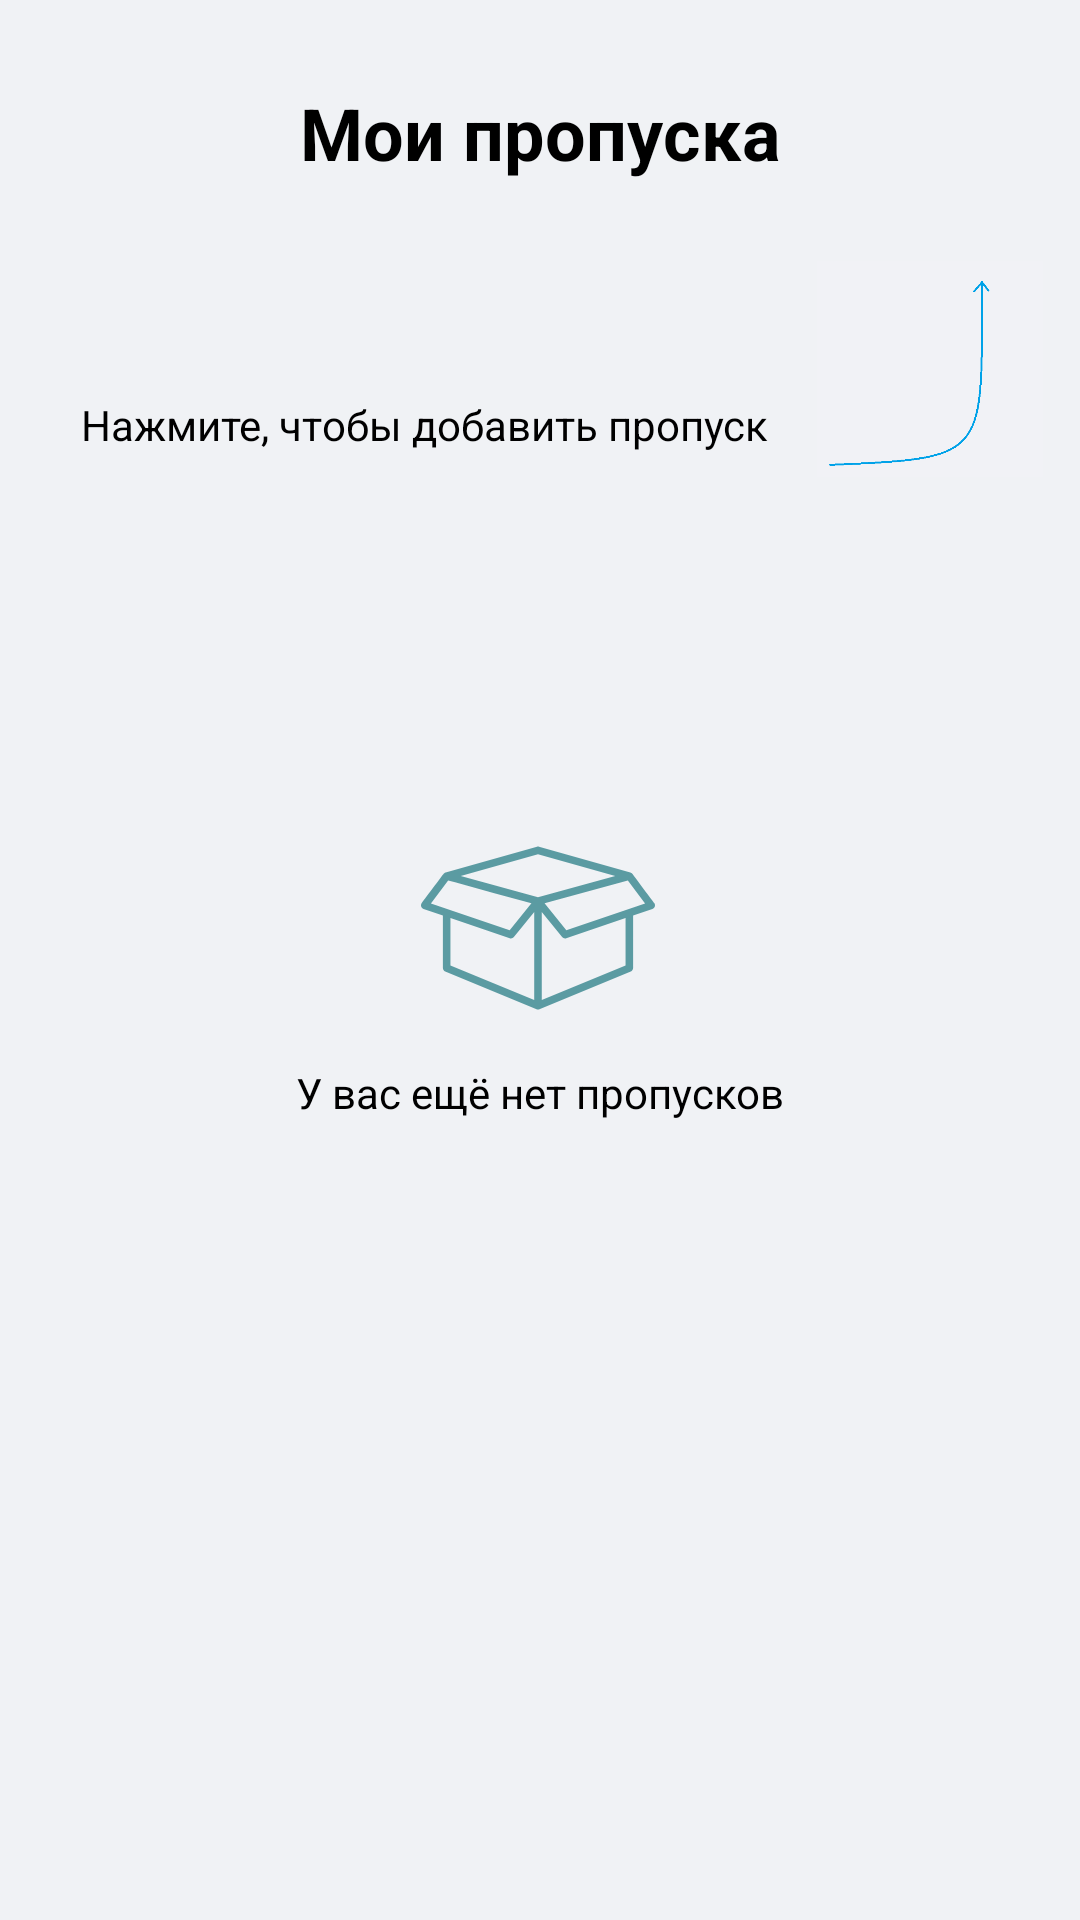

Screen size 1080x1920. Icon name, then its center in pixels as (x=x, y=y):
box: (x=538, y=928)
